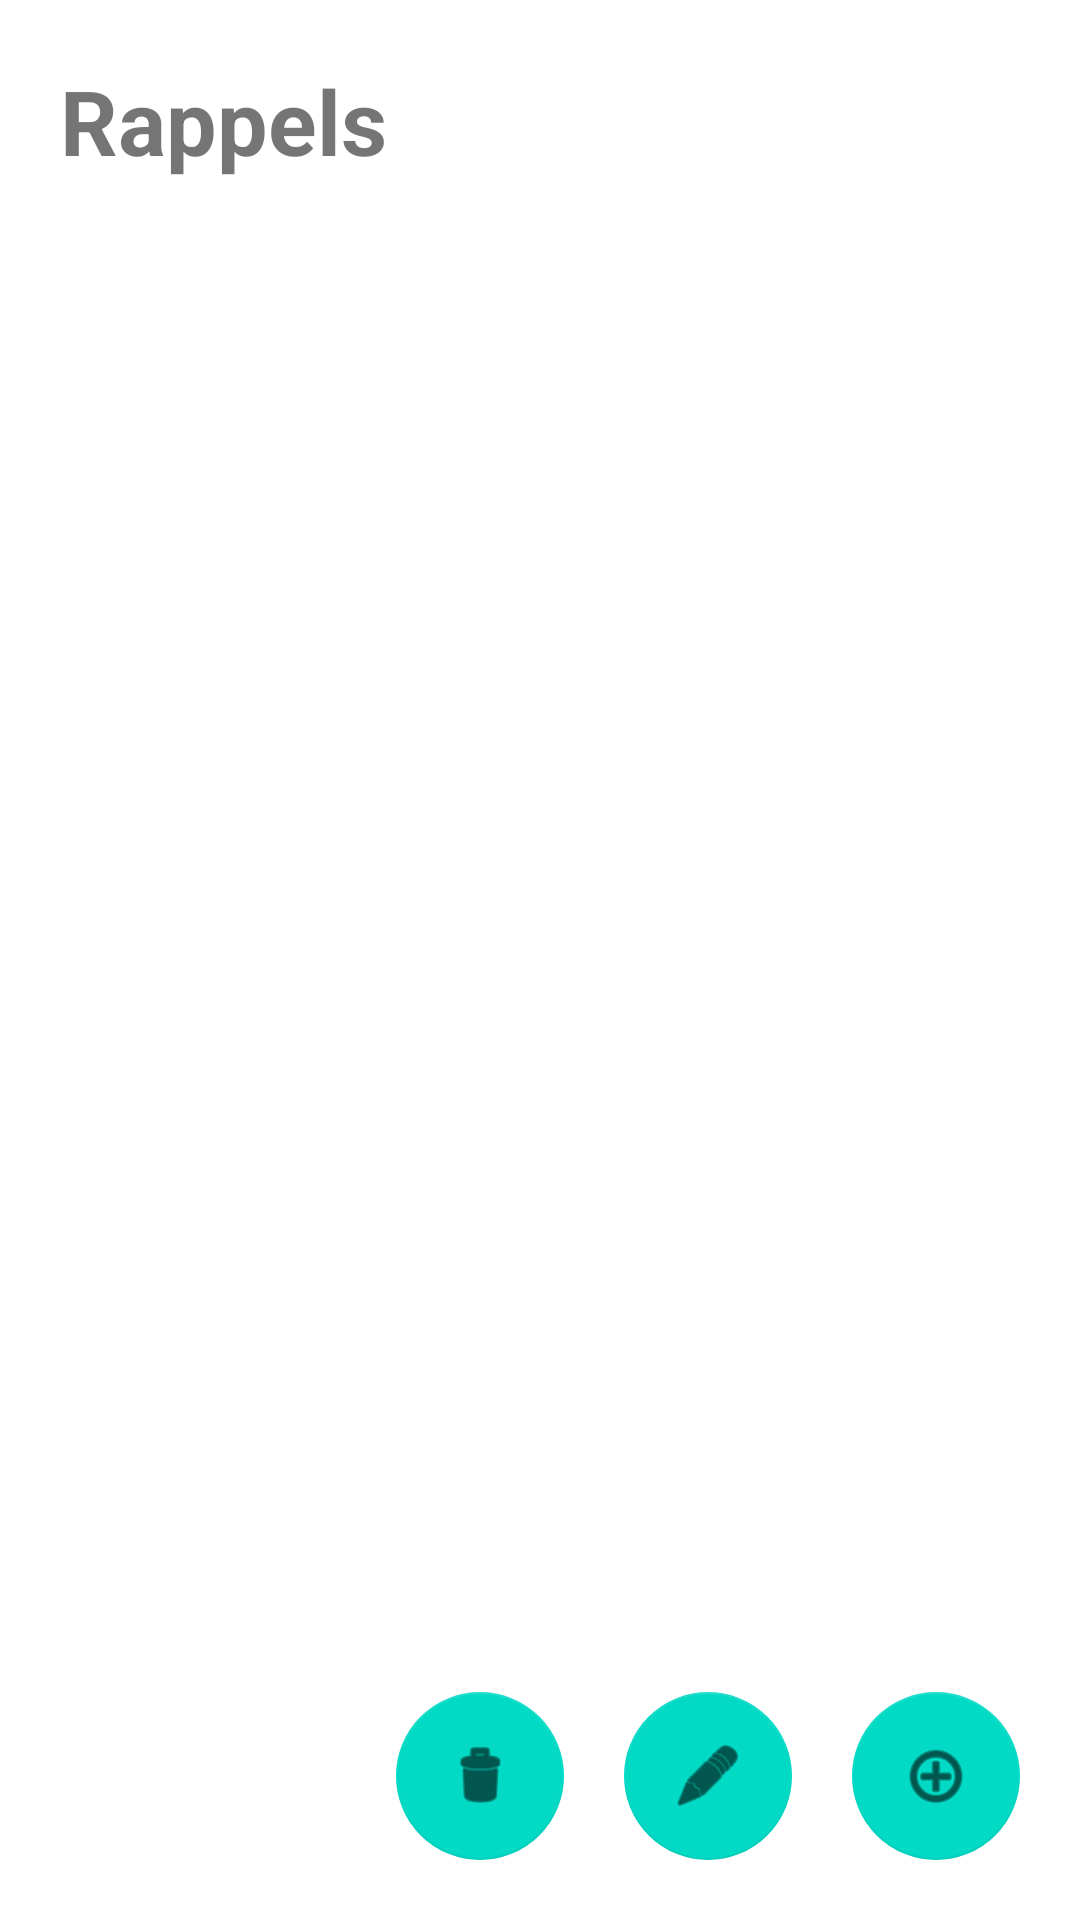

Where to tap for icons on this 1080 x 1920 app screen, as point (x, y):
add: point (936, 1776)
delete: point (480, 1776)
edit: point (708, 1776)
